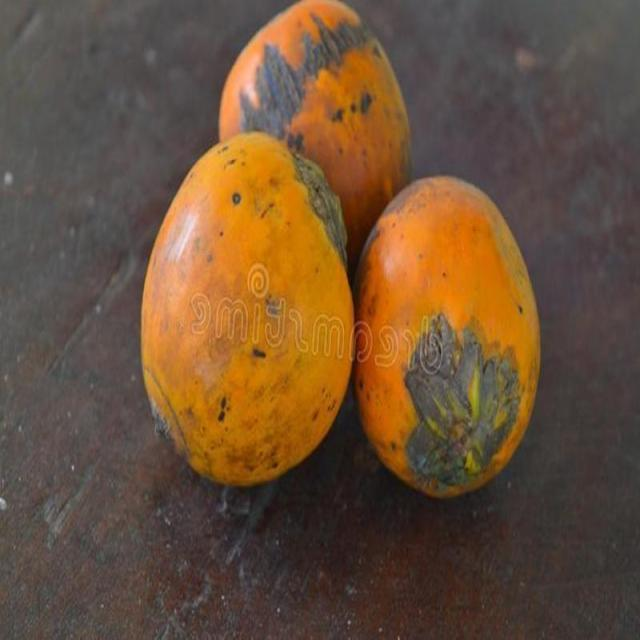good: (139, 131, 356, 491), (351, 176, 542, 502), (216, 0, 413, 284)
